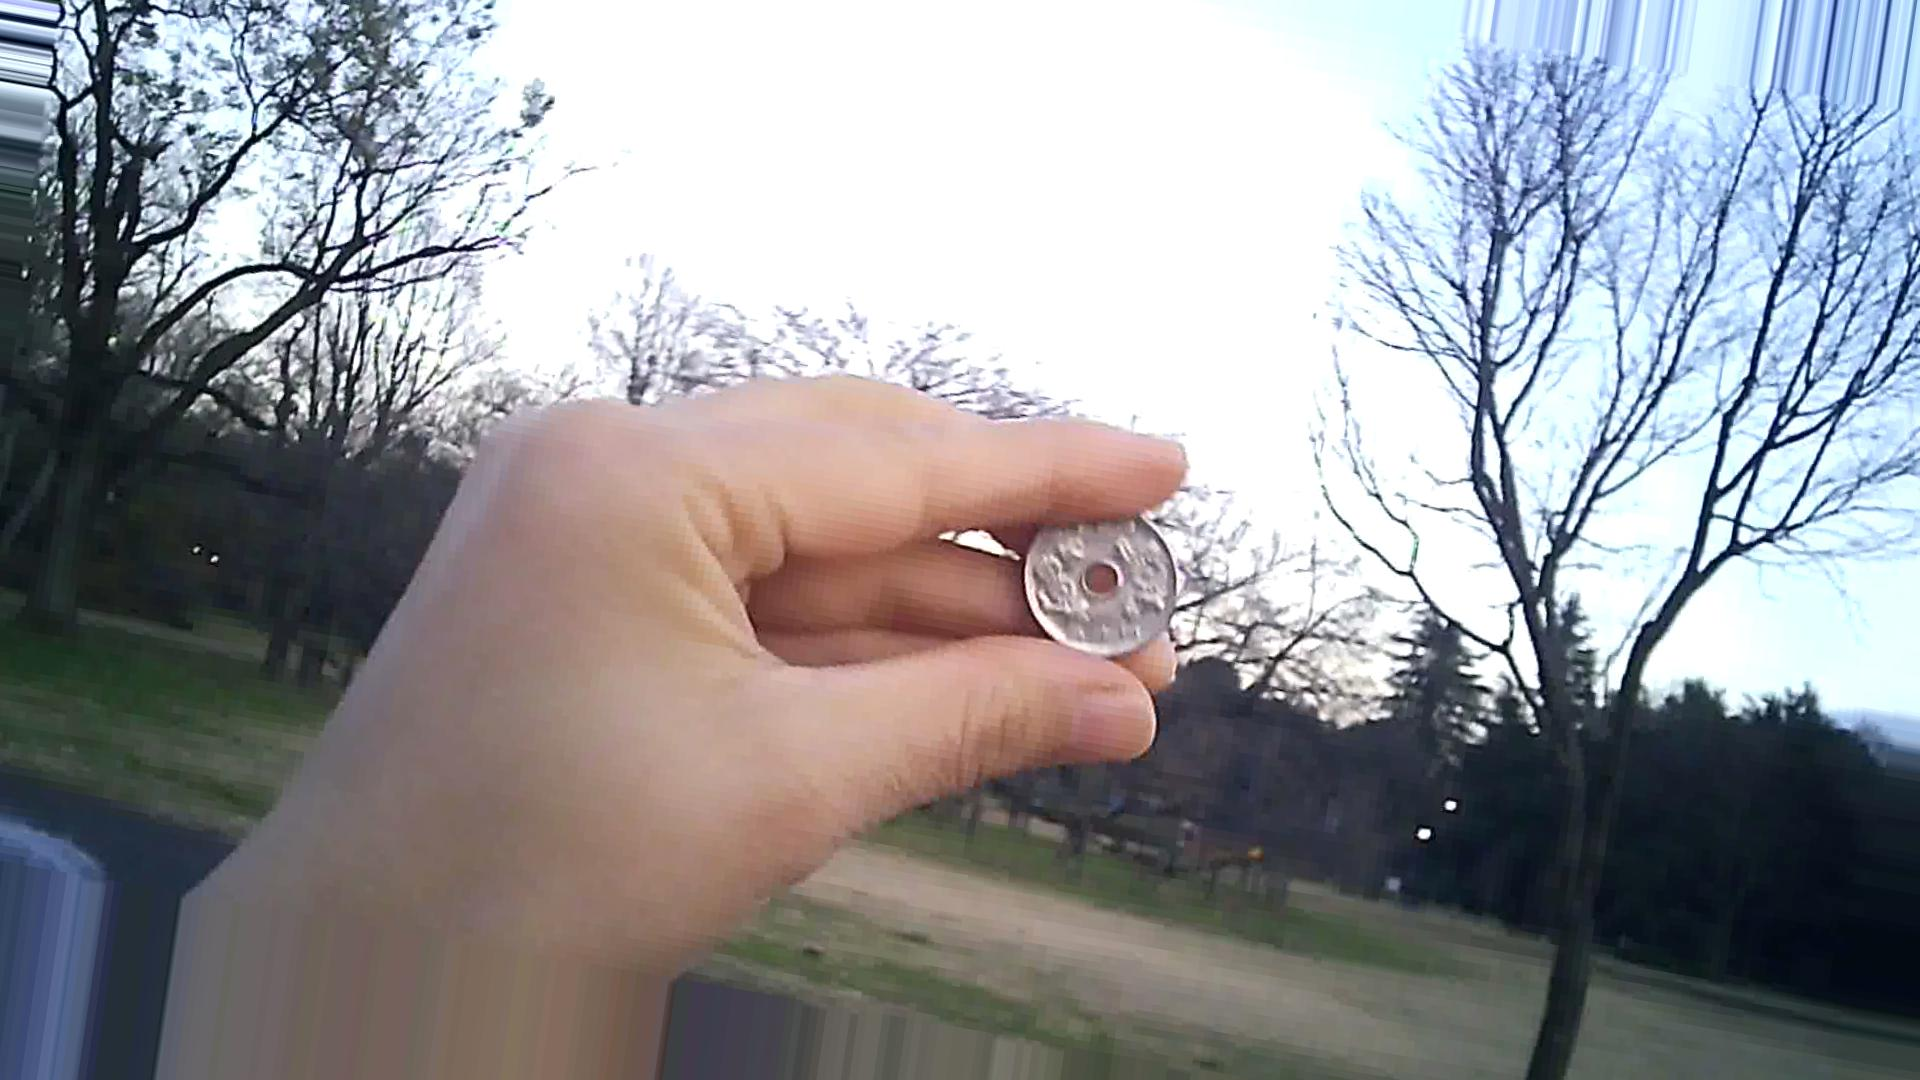50 Yen: (1029, 483, 1189, 669)
